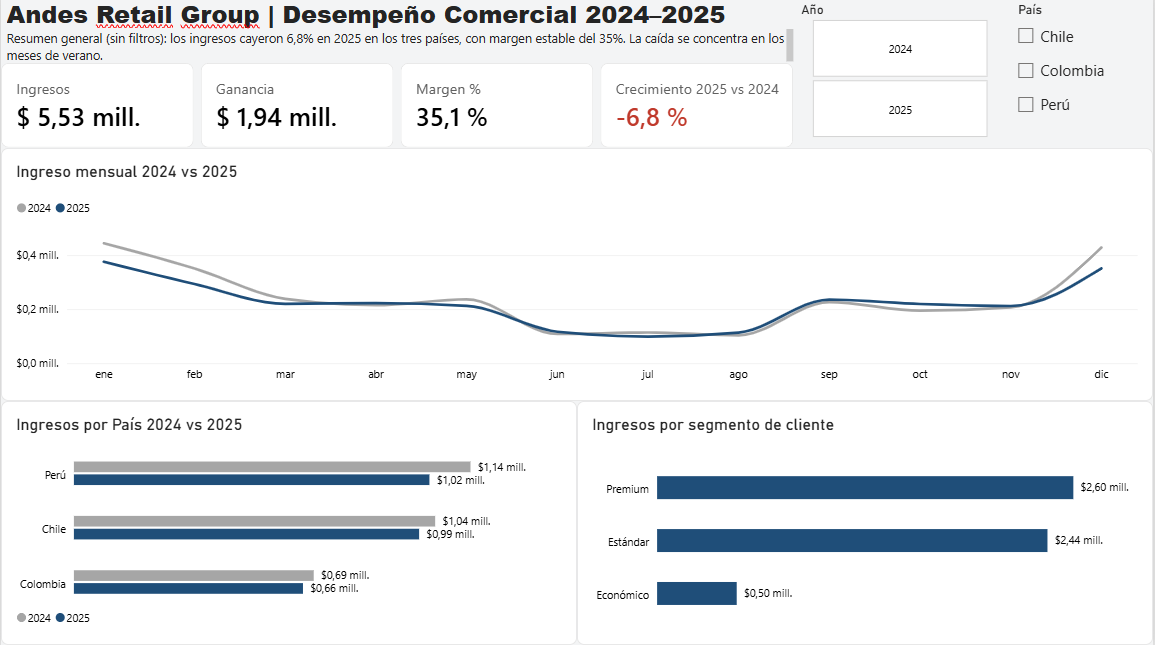

What the dashboard file says about the page in this screenshot:
{"tool":"powerbi","page":{"name":"Overview Ejecutivo","canvas":[1280,720],"ordinal":0},"visuals":[{"type":"textbox","box":[7,0,823,56],"z":0},{"type":"cardVisual","fields":{"Data":["Ventas.Ingresos Totales","Ventas.Ganancia Total","Ventas.Margen %","Ventas.Crecimiento YoY %"]},"box":[0,72.9,881.1,94.4],"z":1000},{"type":"lineChart","title":"Ingreso mensual 2024 vs 2025","fields":{"Category":["Calendario.Mes"],"Series":["Calendario.Año"],"Y":["Ventas.Ingresos Totales"]},"box":[0,167.8,1280,281.1],"z":2000},{"type":"clusteredBarChart","title":"Ingresos por País 2024 vs 2025","fields":{"Category":["Ventas.País"],"Series":["Calendario.Año"],"Y":["Ventas.Ingresos Totales"]},"box":[0,448.9,640,271.1],"z":3000},{"type":"clusteredBarChart","title":"Ingresos por segmento de cliente","fields":{"Category":["Ventas.Segmento_Cliente"],"Y":["Ventas.Ingresos Totales"]},"box":[640,448.9,640,271],"z":4000},{"type":"slicer","fields":{"Values":["Calendario.Año"]},"box":[880.9,5.9,234.4,152.2],"z":5000},{"type":"slicer","fields":{"Values":["Ventas.País"]},"box":[1122.3,5.9,143.3,152.2],"z":6000},{"type":"textbox","box":[6.7,35.6,874.4,46.7],"z":7000}]}

Visuals, with their boxes in screenshot pixels (x1, y1, x2, y2), scaled from the page's 1280x720 canvas onto the 1155x645 screenshot:
textbox: Rect(6, 0, 749, 50)
cardVisual - Ventas.Ingresos Totales x Ventas.Ganancia Total: Rect(0, 65, 795, 150)
"Ingreso mensual 2024 vs 2025" lineChart: Rect(0, 150, 1154, 402)
"Ingresos por País 2024 vs 2025" clusteredBarChart: Rect(0, 402, 578, 644)
"Ingresos por segmento de cliente" clusteredBarChart: Rect(578, 402, 1154, 644)
slicer - Calendario.Año: Rect(795, 5, 1006, 142)
slicer - Ventas.País: Rect(1013, 5, 1142, 142)
textbox: Rect(6, 32, 795, 74)
